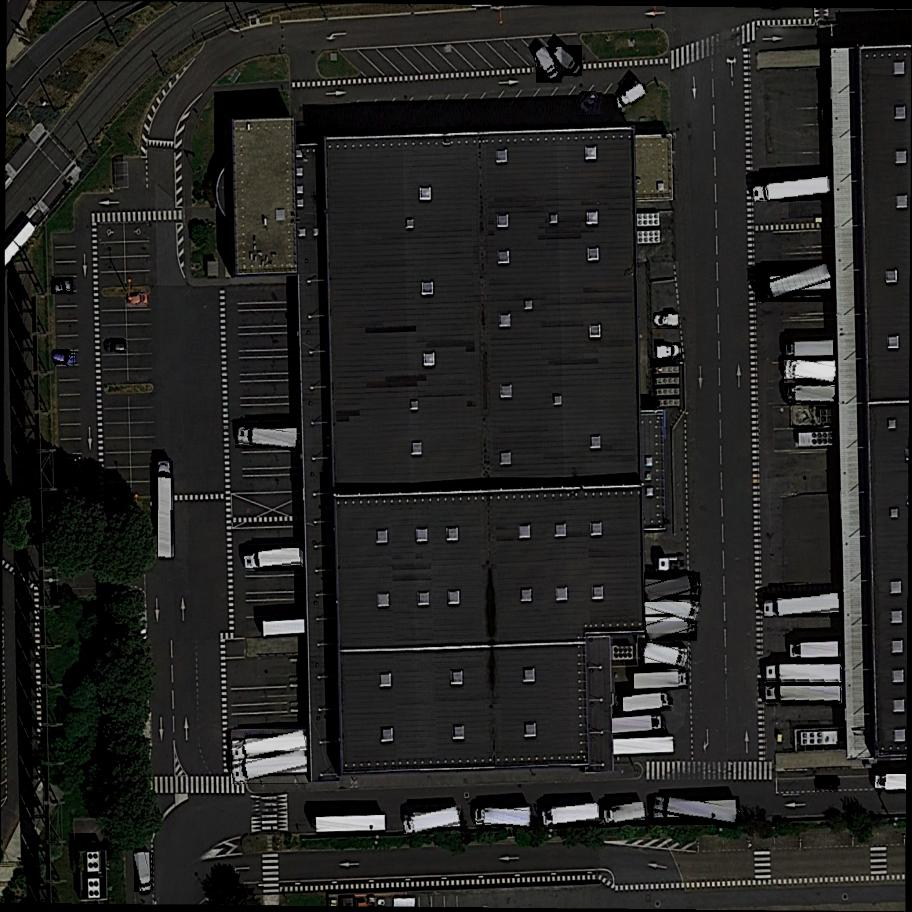large-vehicle: (755, 264, 834, 305), (231, 730, 309, 764), (231, 751, 309, 785), (652, 797, 740, 825), (753, 176, 831, 203), (763, 593, 841, 619), (645, 592, 702, 623), (645, 572, 702, 603), (403, 806, 463, 835), (645, 612, 698, 642), (542, 804, 601, 828), (236, 426, 300, 448), (158, 461, 172, 558), (644, 643, 690, 672), (245, 549, 303, 572), (764, 664, 841, 681), (784, 360, 837, 384), (766, 687, 841, 702), (474, 808, 533, 827), (623, 691, 672, 713), (602, 802, 647, 825), (634, 671, 688, 690), (552, 45, 585, 76), (611, 716, 663, 735), (535, 48, 563, 83), (785, 385, 836, 404), (613, 83, 648, 110), (789, 641, 840, 659), (134, 852, 155, 894), (783, 341, 834, 358), (876, 775, 905, 791)
small-vehicle: (578, 91, 603, 117), (814, 775, 840, 793), (51, 276, 75, 295), (52, 349, 75, 367), (656, 344, 680, 361), (653, 313, 678, 329), (127, 293, 147, 308), (106, 339, 126, 352)
